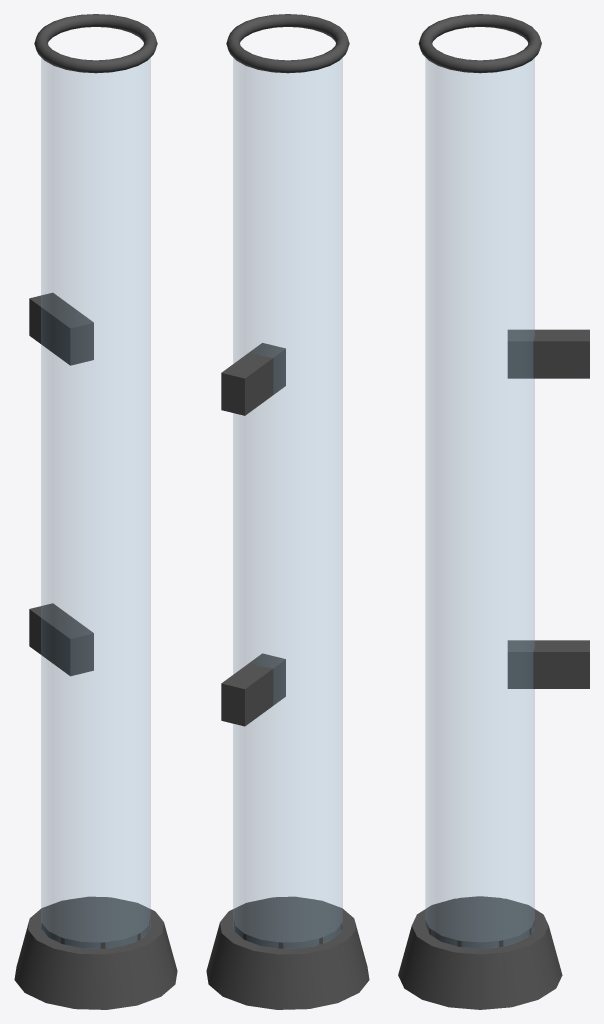
File: glass_tube.glb
The picture shows the model from 3 angles, left to right: view 1: azimuth 30°, elevation 25°; view 2: azimuth 150°, elevation 25°; view 3: azimuth 270°, elevation 25°; orthographic projection.
Size of the model in its own units: 0.24 by 1.51 by 0.28.
